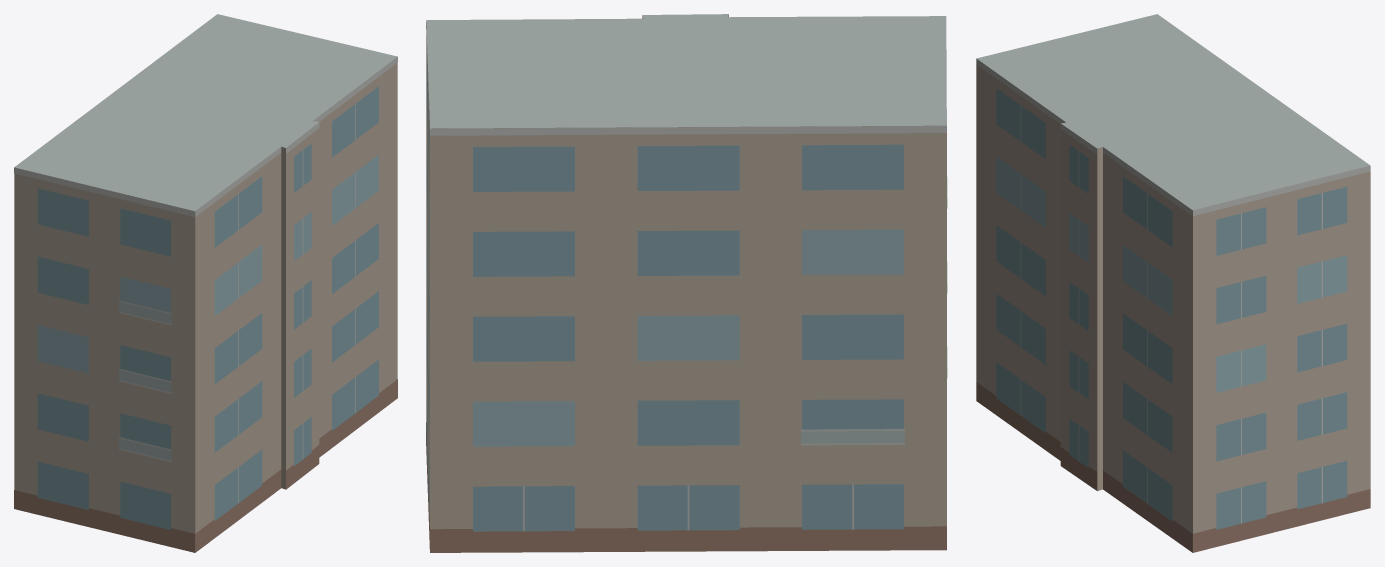
File: survey-upis-32922503.glb
3 views of the same model, side by side, from view 1: azimuth 30°, elevation 25°; view 2: azimuth 150°, elevation 25°; view 3: azimuth 270°, elevation 25° (orthographic). The views are drawn at different scales.
Visible parts, largest first — view 1: survey-upis-32922503.tmp; view 2: survey-upis-32922503.tmp; view 3: survey-upis-32922503.tmp.
Boxes of the visible parts, x1,y1,x2,y2 form: survey-upis-32922503.tmp: (14,14,397,552); survey-upis-32922503.tmp: (426,14,947,552); survey-upis-32922503.tmp: (976,14,1370,552).
Size of the model in its own units: 17.47 by 14.2 by 14.82.
